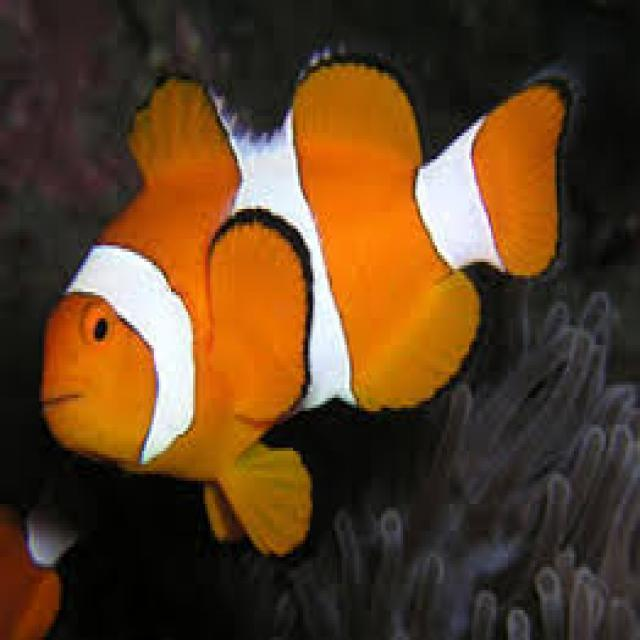ClownFish: (41, 65, 572, 552)
